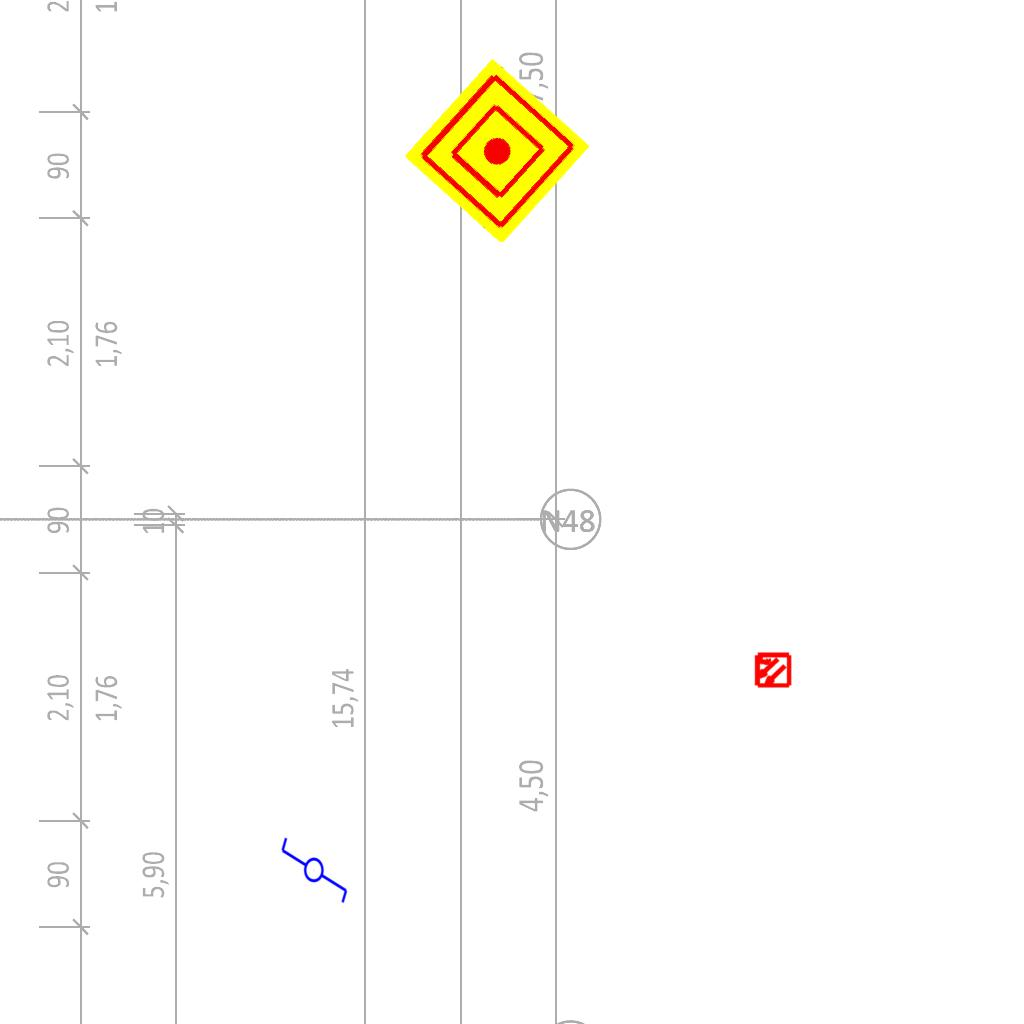NAM-Nichtautomatischer_Melder: (403, 57, 591, 245)
OT_Multisensormelder_(Kombination_RMO_WMD): (744, 642, 800, 698)
Wechselschalter: (279, 827, 351, 905)
